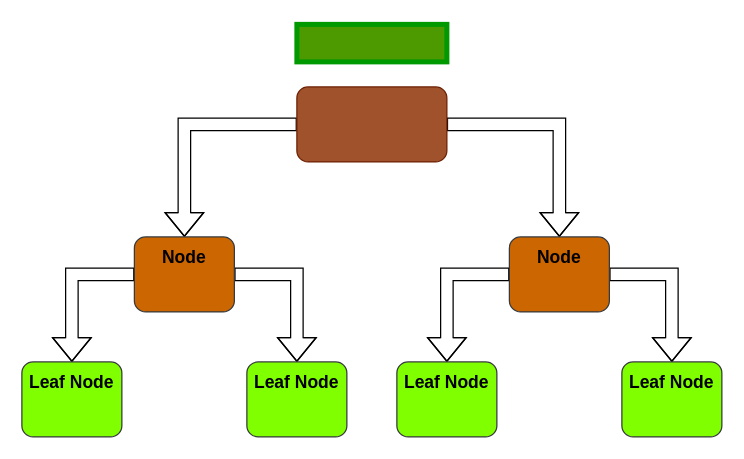
Some shapes in this 744 by 459 pixel diagram are drawn without their labels. Each missing label, with the centre of its shape:
Decision Tree: point (371, 42)
Root Node: point (371, 124)
